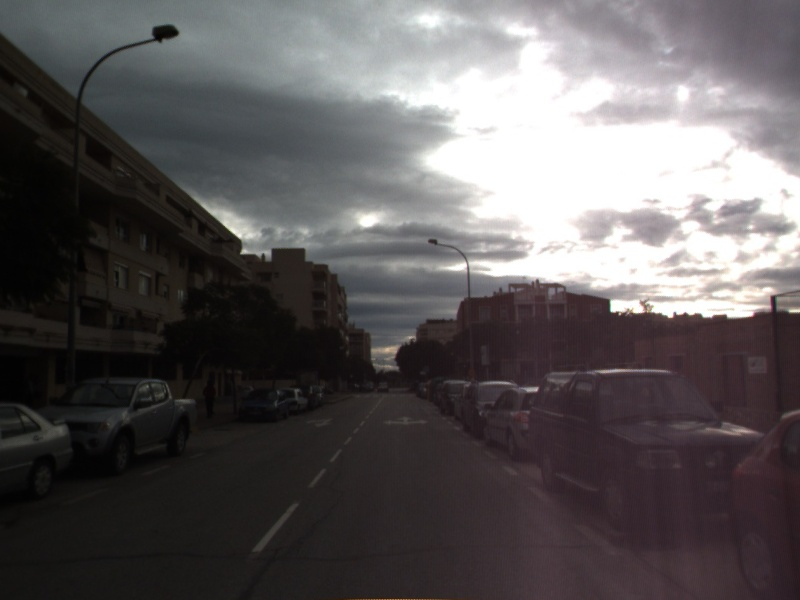STRAIGHT_LEFT_RIGHT: (381, 413, 431, 428)
